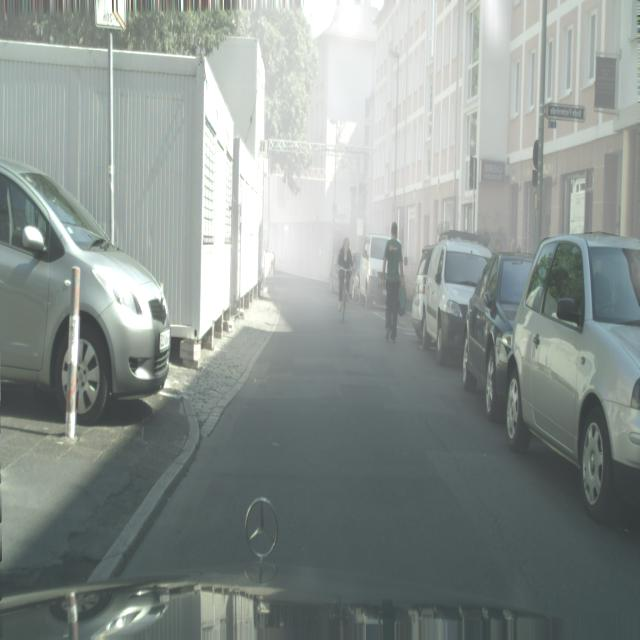car: (338, 235, 352, 322)
person: (382, 220, 406, 341)
truck: (0, 158, 171, 424), (505, 232, 640, 521), (461, 252, 535, 421), (421, 233, 492, 366), (357, 233, 388, 309), (411, 244, 434, 341)
